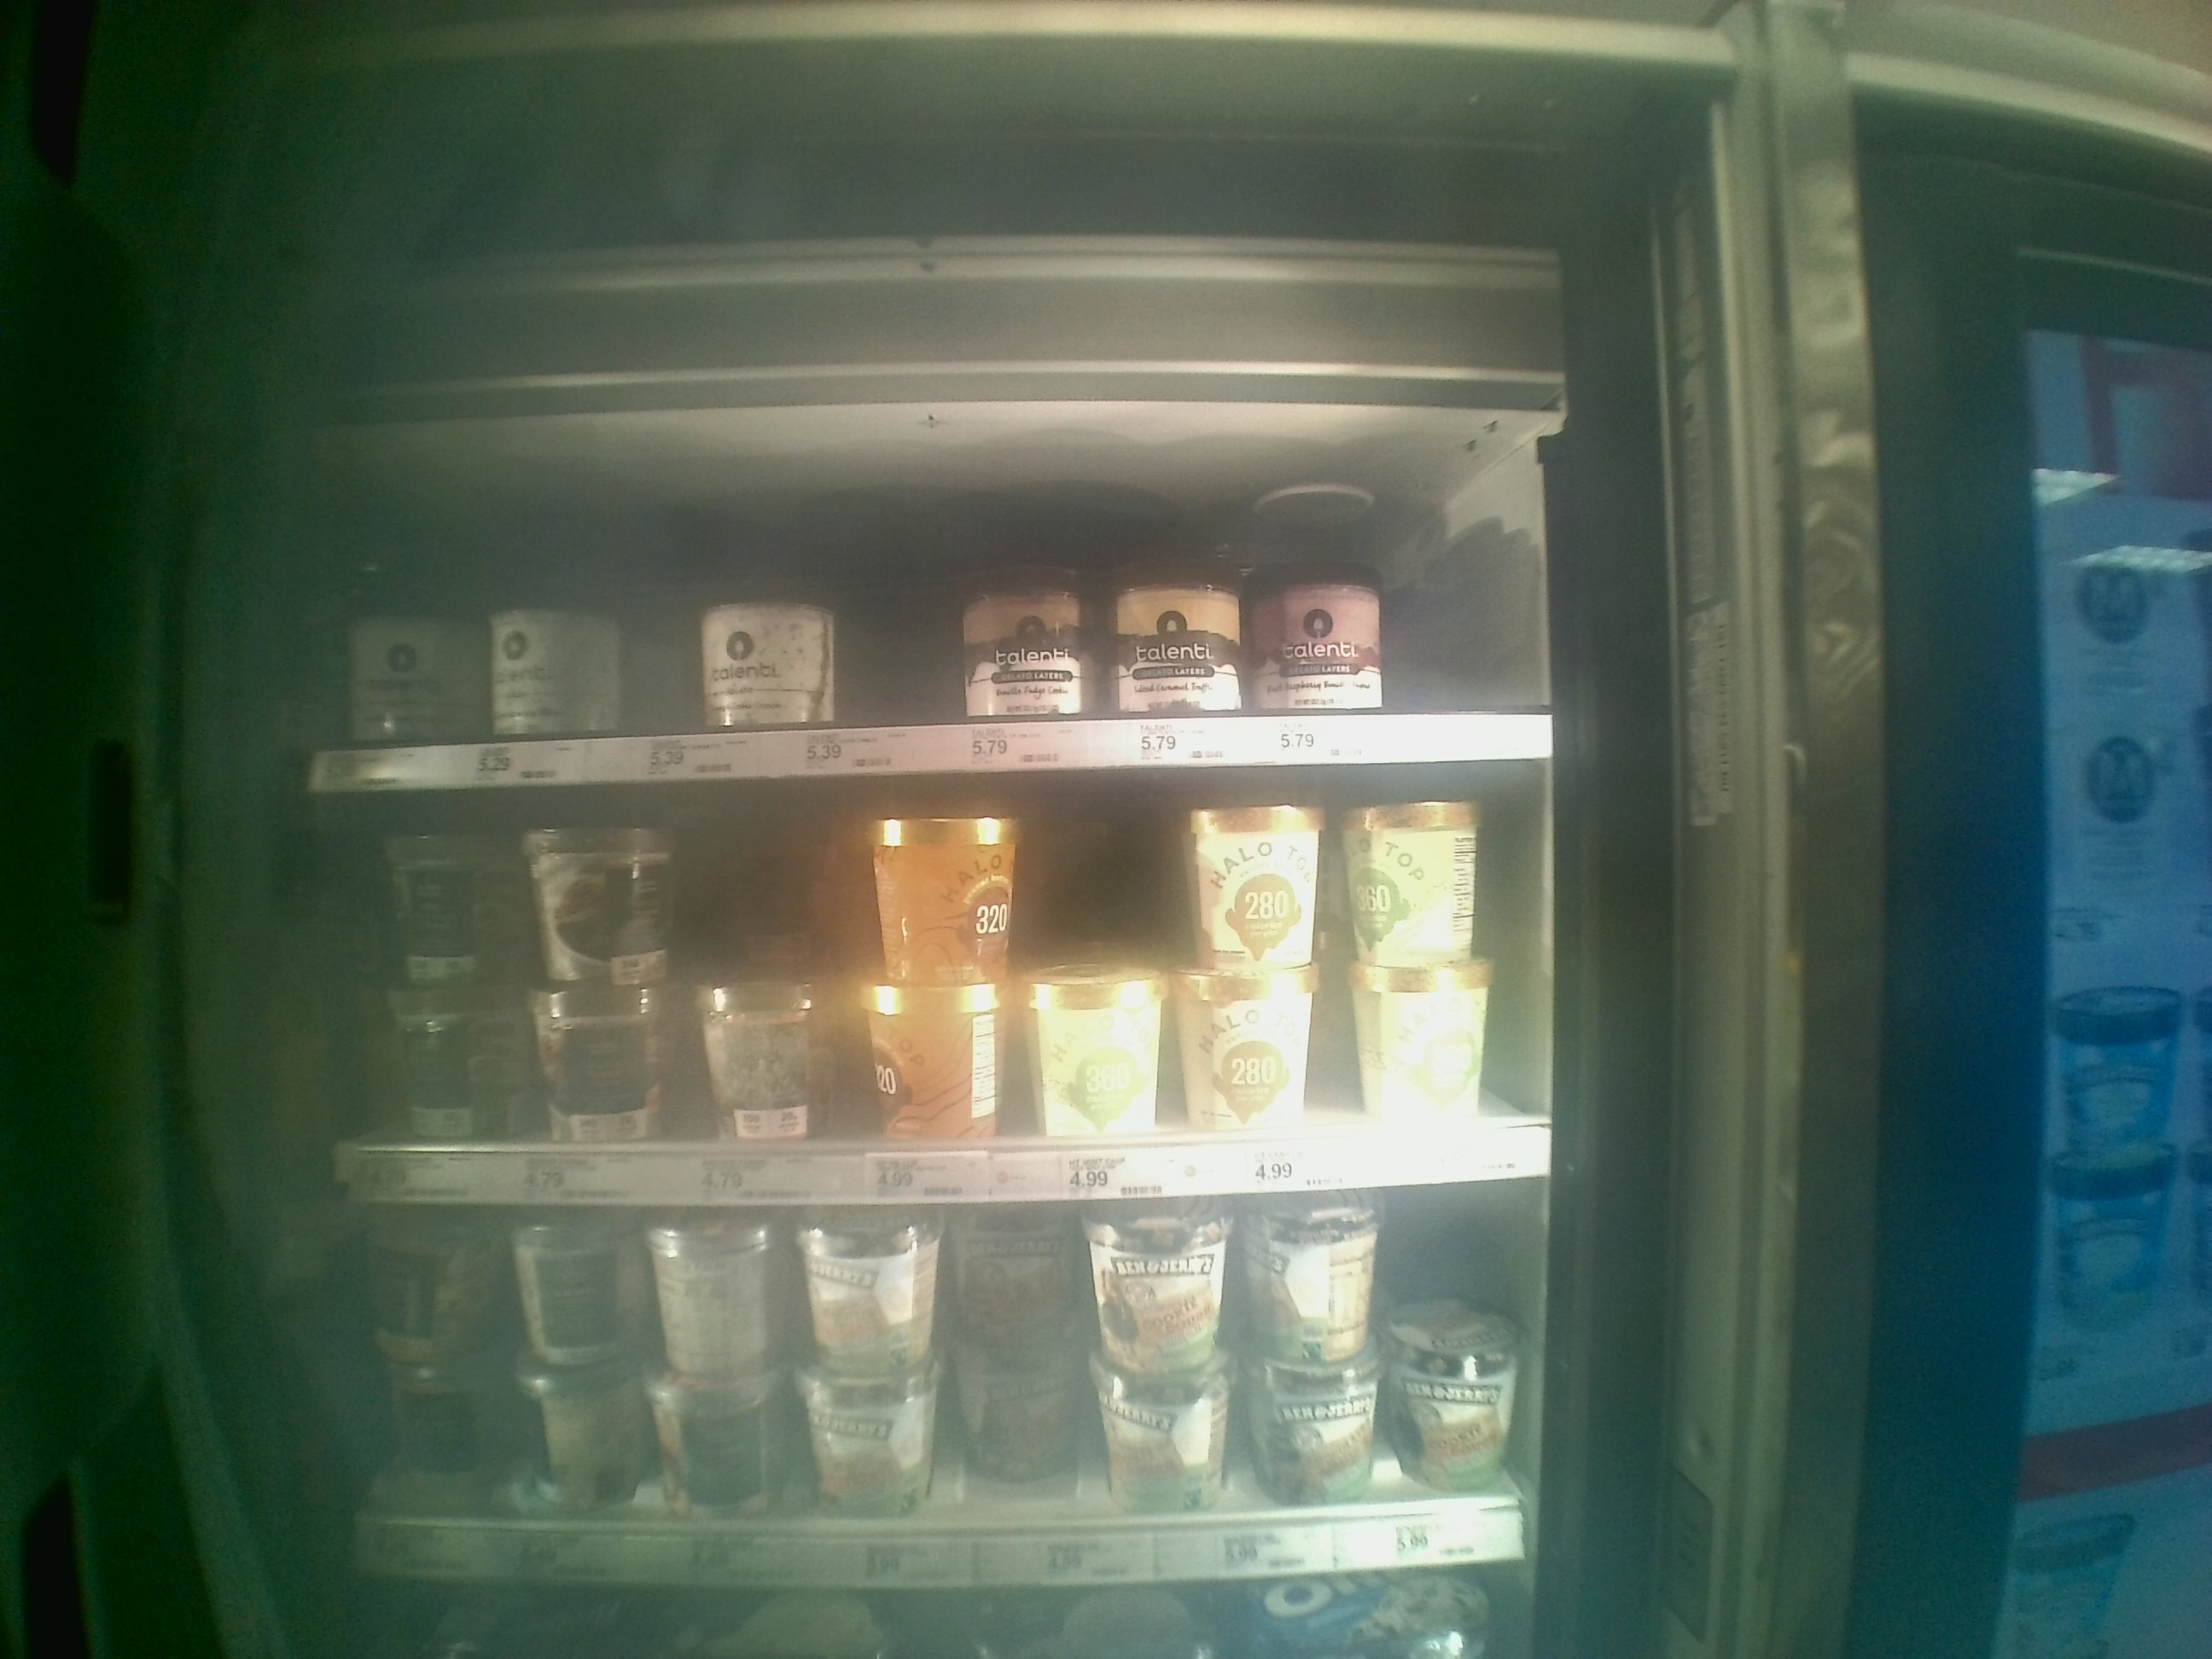shelf: (307, 763, 1566, 1195), (298, 1201, 1554, 1598), (301, 436, 1554, 767)
